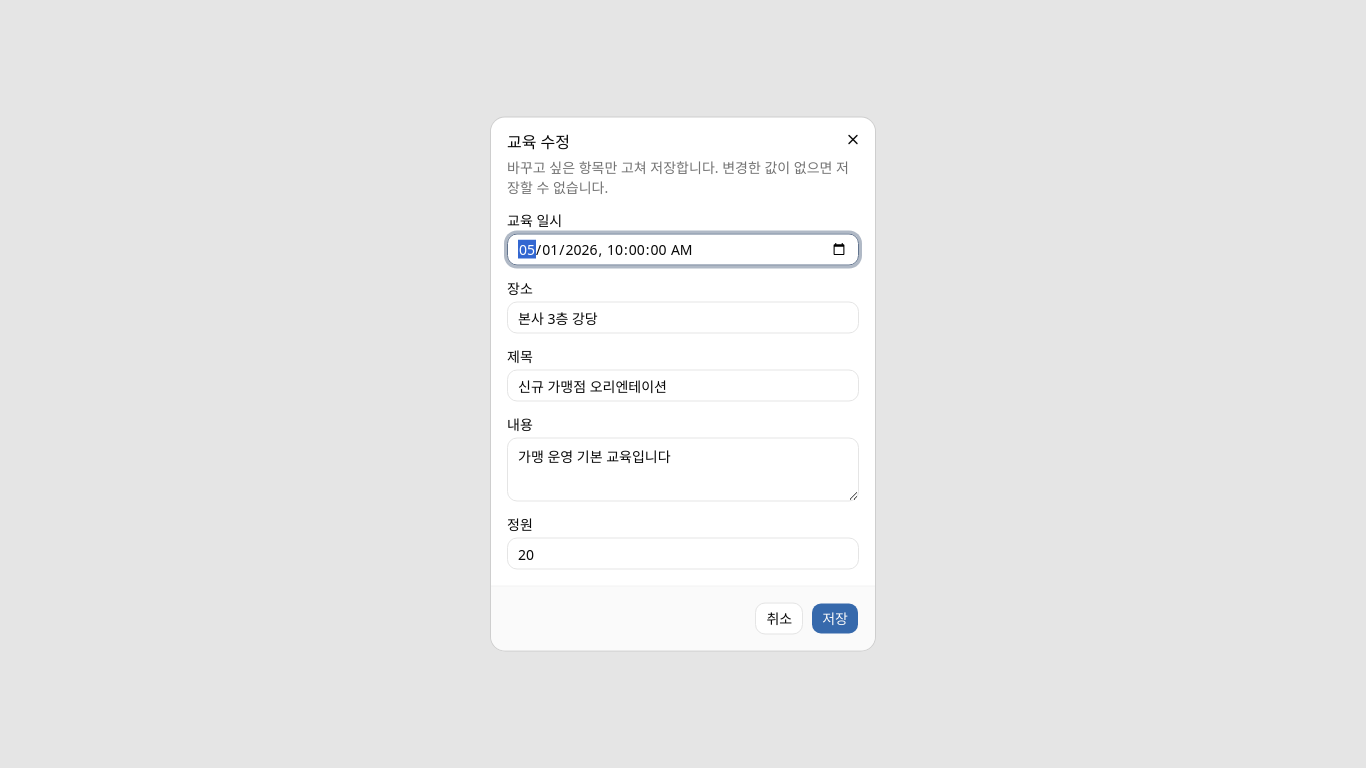
Test: FranchiseEducationUpdateDialog - 제출 성공/실패 › 서버 판정 실패(등록자 아님 등) 시 다이얼로그가 닫히지 않고 root 에러가 표시된다
The width and height of the screenshot is (1366, 768).
Click the button "저장": x=835, y=618 [811,602,859,634]
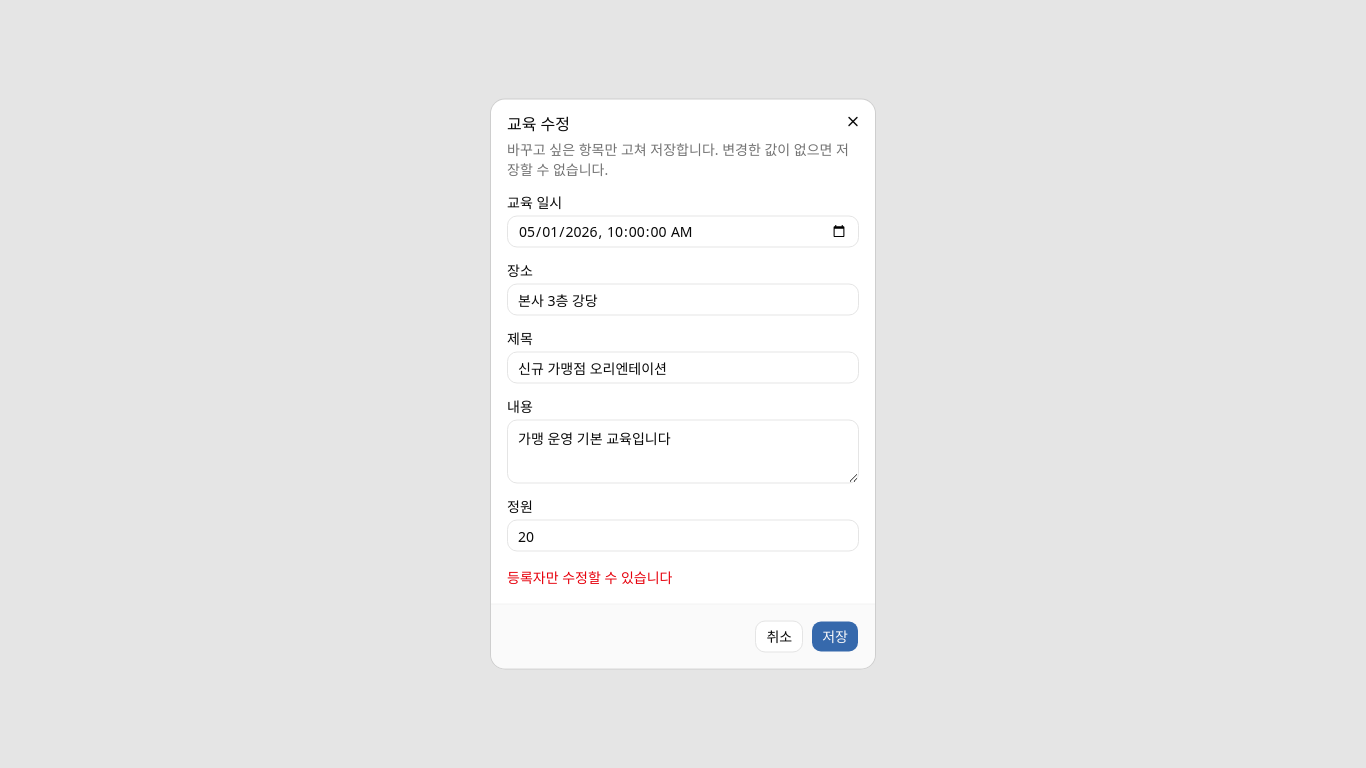
Now the text "등록자만 수정할 수 있습니다" is shown, box [507,568,672,586]
